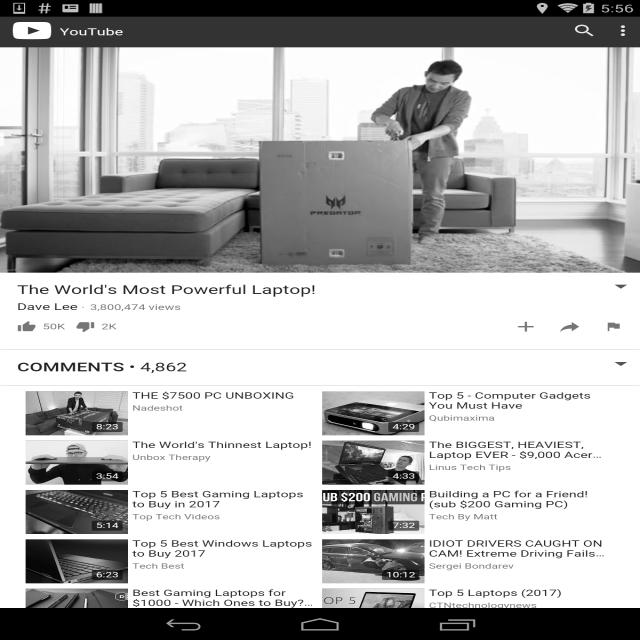ImageButton: (564, 21, 602, 42), (507, 316, 539, 338), (553, 318, 585, 335), (610, 20, 632, 42)
ImageView: (13, 56, 628, 269), (24, 388, 126, 605), (319, 388, 420, 602)
TextView: (18, 280, 330, 308), (133, 487, 303, 522), (428, 486, 595, 520), (438, 388, 588, 415), (137, 386, 290, 412), (431, 582, 575, 607), (16, 356, 200, 374), (63, 27, 136, 39)
